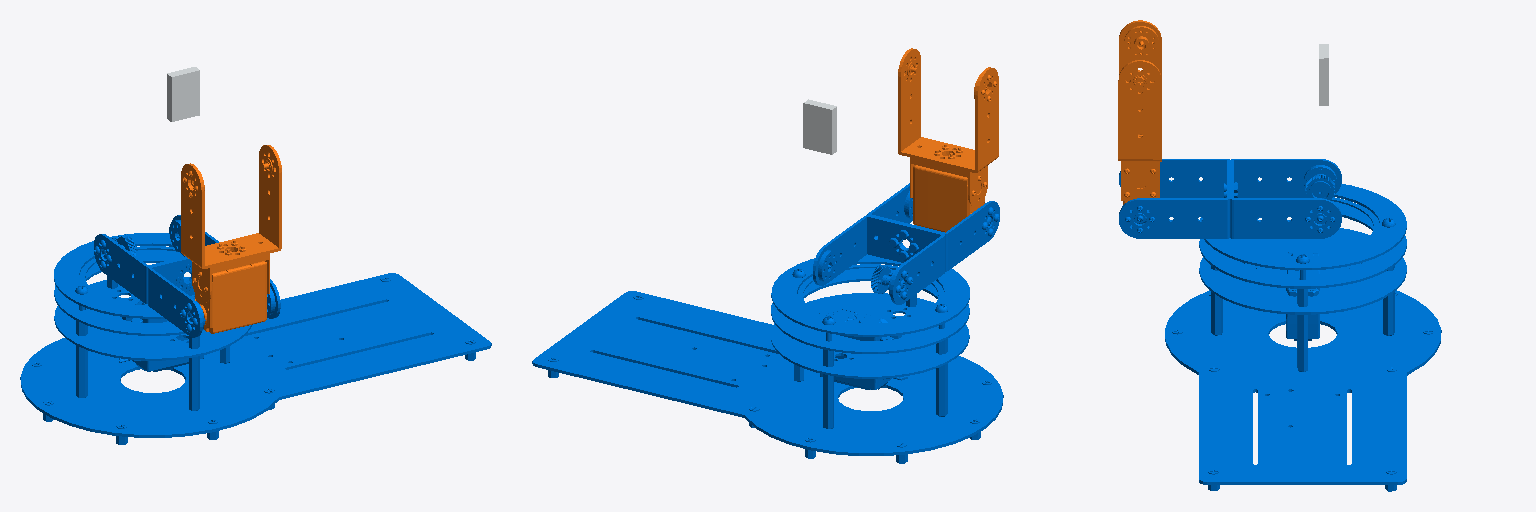
The robot description file, URDF, robot "robot_arm":
<robot
  name="robot_arm">
  <link
    name="base_link">
    <inertial>
      <origin
        xyz="0 0 0"
        rpy="0 0 0" />
      <mass
        value="2.367388045679842" />
      <inertia
        ixx="0.00063515570955527"
        ixy="-1.5918859119498E-07"
        ixz="-0.000228314011654331"
        iyy="0.00184092685879747"
        iyz="-2.2323912295793E-08"
        izz="0.00204071615322817" />
    </inertial>
    <visual>
      <origin
        xyz="0.3 0 0"
        rpy="0 0 3.14" />
      <geometry>
        <mesh
          filename="base_link.STL" />
      </geometry>
      <material
        name="">
        <color
          rgba="0 0.517647058823529 0.929411764705882 1" />
      </material>
    </visual>
  </link>
  <link
    name="link1">
    <inertial>
      <origin
        xyz="0.000940804880715196 2.52378505405722E-05 0.0324611634628793"
        rpy="0 0 0" />
      <mass
        value="0.185774446093755" />
      <inertia
        ixx="0.000111160714624096"
        ixy="-1.68302859753309E-07"
        ixz="-2.43601078404654E-06"
        iyy="0.0001108026194047"
        iyz="1.16928075885404E-07"
        izz="0.000164222627116852" />
    </inertial>
    <visual>
      <origin
        xyz="0 0 0"
        rpy="0 0 0" />
      <geometry>
        <mesh
          filename="link1.STL" />
      </geometry>
      <material
        name="">
        <color
          rgba="0.898039215686275 0.517647058823529 0.029411764705882 1" />
      </material>
    </visual>
  </link>
  <joint
    name="joint1"
    type="revolute">
    <origin
      xyz="0.3 0 0.048955"
      rpy="0 0 3.14" />
    <parent
      link="base_link" />
    <child
      link="link1" />
    <axis
      xyz="0 0 1" />
 <limit velocity="4.8" effort="1"  />
  </joint>
  <link
    name="link2">
    <inertial>
      <origin
        xyz="0.0493082979525453 7.60607523062062E-07 0.00194840079141493"
        rpy="0 0 0" />
      <mass
        value="0.0593810073432616" />
      <inertia
        ixx="3.58910433676227E-05"
        ixy="2.23430085799849E-09"
        ixz="1.97627368167861E-06"
        iyy="0.0001094150051069"
        iyz="-6.23876303800842E-10"
        izz="7.89024333670068E-05" />
    </inertial>
    <visual>
      <origin
        xyz="0 0 0"
        rpy="0 0 0" />
      <geometry>
        <mesh
          filename="link2.STL" />
      </geometry>
      <material
        name="">
        <color
          rgba="0 0.517647058823529 0.929411764705882 1" />
      </material>
    </visual>
  </link>
  <joint
    name="joint2"
    type="revolute">
    <origin
      xyz="0 -0.01 0.046545"
      rpy="1.5708 3.6349E-31 1.5708" />
    <parent
      link="link1" />
    <child
      link="link2" />
    <axis
      xyz="0 0 1" />
<limit velocity="4.8" effort="1"  />
  </joint>
  <link
    name="link3">
    <inertial>
      <origin
        xyz="0.0228993665668384 -1.31326095756668E-05 -0.00230261687941265"
        rpy="0 0 0" />
      <mass
        value="0.104242639151535" />
      <inertia
        ixx="2.85953679420187E-05"
        ixy="9.01989426747073E-08"
        ixz="-9.65479944609097E-07"
        iyy="9.43404332553144E-05"
        iyz="-2.98667163492179E-08"
        izz="7.38093169287506E-05" />
    </inertial>
    <visual>
      <origin
        xyz="0 0 0"
        rpy="0 0 0" />
      <geometry>
        <mesh
          filename="link3.STL" />
      </geometry>
      <material
        name="">
        <color
          rgba="0.998039215686275 0.517647058823529 0.129411764705882 1" />
      </material>
    </visual>
  </link>
  <joint
    name="joint3"
    type="revolute">
    <origin
      xyz="0.104 0 0"
      rpy="3.1416 -1.0106E-15 1.5708" />
    <parent
      link="link2" />
    <child
      link="link3" />
    <axis
      xyz="0 0 1" />
<limit velocity="4.8" effort="1" />
  </joint>
  <link
    name="link4">
    <inertial>
      <origin
        xyz="0.018016230451332 -0.0113594014513513 0.00410138082506685"
        rpy="0 0 0" />
      <mass
        value="0.130735663937828" />
      <inertia
        ixx="3.94104287146871E-05"
        ixy="1.82464961893516E-07"
        ixz="-1.70804203001581E-06"
        iyy="6.42441837456243E-05"
        iyz="9.11674085867087E-07"
        izz="7.71705337599841E-05" />
    </inertial>
    <visual>
      <origin
        xyz="0 0 0"
        rpy="0 0 0" />
      <geometry>
        <mesh
          filename="link4.STL" />
      </geometry>
      <material
        name="">
        <color
          rgba="0 0.517647058823529 0.929411764705882 1" />
      </material>
    </visual>
  </link>
  <joint
    name="joint4"
    type="revolute">
    <origin
      xyz="0.088419 -0.0007415 0"
      rpy="-3.5109E-17 7.3879E-15 -1.5621" />
    <parent
      link="link3" />
    <child
      link="link4" />
    <axis
      xyz="0 0 1" />
<limit velocity="4.8" effort="1"  />
  </joint>
  <link
    name="link5">
    <inertial>
      <origin
        xyz="-0.0018261 -0.0097324 0.057182"
        rpy="0 0 0" />
      <mass
        value="0.11513" />
      <inertia
        ixx="8.1374E-05"
        ixy="-8.3834E-08"
        ixz="-6.9517E-07"
        iyy="8.7042E-05"
        iyz="-8.918E-06"
        izz="5.6287E-05" />
    </inertial>
    <visual>
      <origin
        xyz="0 0 0"
        rpy="0 0 0" />
      <geometry>
        <mesh
          filename="link5.STL" />
      </geometry>
      <material
        name="">
        <color
          rgba="0 0 0 1" />
      </material>
    </visual>
  </link>
  <joint
    name="joint5"
    type="revolute">
    <origin
      xyz="0.0419 -0.00036565 0.0034694"
      rpy="-1.5708 1.6081E-16 -1.5795" />
    <parent
      link="link4" />
    <child
      link="link5" />
    <axis
      xyz="0 0 1" />
<limit velocity="4.8" effort="1"  />
  </joint>
  <link
    name="link6">
    <inertial>
      <origin
        xyz="0 -3.46944695195361E-18 0.003"
        rpy="0 0 0" />
      <mass
        value="0.00972000000000001" />
      <inertia
        ixx="3.53160000000001E-07"
        ixy="-1.41593587496133E-21"
        ixz="2.26563445043357E-22"
        iyy="7.58160000000002E-07"
        iyz="-3.92910790962672E-23"
        izz="1.053E-06" />
    </inertial>
    <visual>
      <origin
        xyz="0 0 0"
        rpy="0 0 0" />
      <geometry>
        <mesh
          filename="link6.STL" />
      </geometry>
      <material
        name="">
        <color
          rgba="0.898039215686275 0.917647058823529 0.929411764705882 1" />
      </material>
    </visual>
  </link>
  <joint
    name="joint6"
    type="fixed">
    <origin
      xyz="-0.0039777 -0.024675 0.060484"
      rpy="-0.0087266 -2.255E-15 1.9679E-17" />
    <parent
      link="link5" />
    <child
      link="link6" />
    <axis
      xyz="0 0 0" />
  </joint>
</robot>

--- What the picture shows (computed from the rendered views, not written in the file) ---
3 views of the same robot in one strip: view 1: azimuth 30°, elevation 25°; view 2: azimuth 150°, elevation 25°; view 3: azimuth 270°, elevation 25° (orthographic).
Model robot_arm with 7 links and 6 joints (5 revolute, 1 fixed), rooted at base_link, posed every joint at zero.
Visible links, largest first — view 1: base_link, link3, link2, link6; view 2: base_link, link3, link2, link6; view 3: base_link, link2, link3, link6.
Boxes of the visible links, box(x1,y1,x2,y2) form: base_link: box(20, 233, 491, 444); link3: box(181, 145, 281, 333); link2: box(94, 215, 280, 337); link6: box(167, 67, 199, 121); base_link: box(532, 254, 1003, 463); link3: box(898, 48, 998, 232); link2: box(813, 183, 999, 304); link6: box(803, 99, 836, 154); base_link: box(1165, 184, 1441, 491); link2: box(1119, 159, 1341, 238); link3: box(1118, 20, 1161, 204); link6: box(1319, 44, 1328, 105).
Size in the robot's own frame: 0.283 by 0.1864 by 0.2029 metres.
4 mesh visuals loaded from 7 distinct referenced files (4 binary STL); not drawn: 3 (reference not matched to a file when rendering).